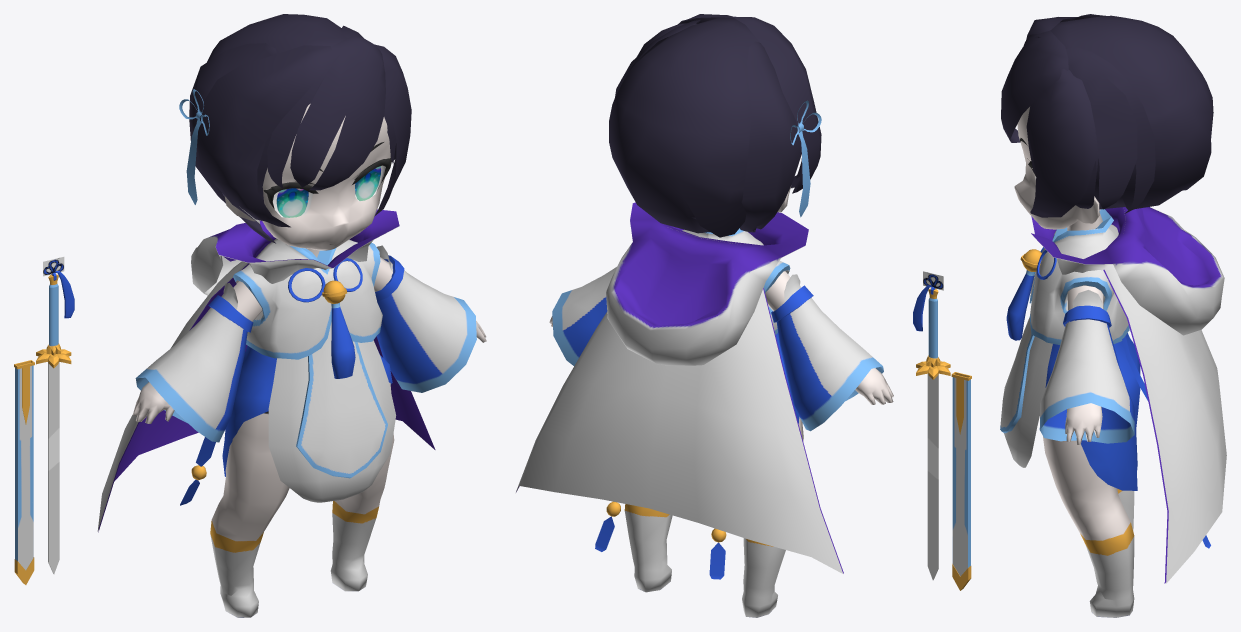
The picture shows the model from 3 angles, left to right: view 1: azimuth 30°, elevation 25°; view 2: azimuth 150°, elevation 25°; view 3: azimuth 270°, elevation 25°; orthographic projection. The views are drawn at different scales.
Visible parts, largest first — view 1: polySurface38, polySurface43, polySurface34, polySurface5, polySurface36; view 2: polySurface5, polySurface43, polySurface38, polySurface36, polySurface34; view 3: polySurface43, polySurface5, polySurface38, polySurface34.
Part boxes in pixels (box(x1,y1,x2,y2)): polySurface38: box(135, 238, 476, 505); polySurface43: box(179, 14, 411, 243); polySurface34: box(133, 103, 486, 617); polySurface5: box(97, 209, 435, 532); polySurface36: box(14, 257, 74, 584); polySurface5: box(516, 202, 843, 573); polySurface43: box(609, 14, 821, 237); polySurface38: box(552, 228, 883, 579); polySurface36: box(913, 271, 971, 590); polySurface34: box(549, 185, 893, 617); polySurface43: box(1001, 14, 1213, 217); polySurface5: box(1031, 207, 1226, 583); polySurface38: box(1000, 209, 1210, 548); polySurface34: box(1014, 107, 1134, 617).
Bounding box in the file's own units: 81.13 × 99.31 × 36.33.
2 materials, 2 textured.
